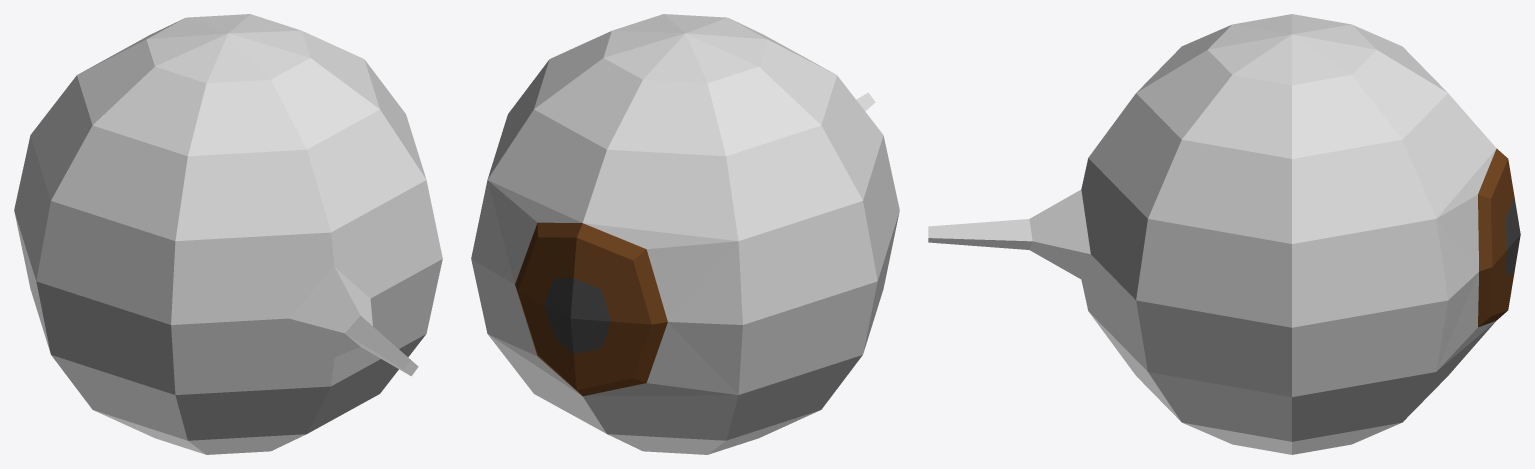
File: Eyeball_01.fbx
3 renders of one model, left to right at view 1: azimuth 30°, elevation 25°; view 2: azimuth 150°, elevation 25°; view 3: azimuth 270°, elevation 25°, orthographic.
Visible parts, largest first — view 1: Eyeball_01; view 2: Eyeball_01; view 3: Eyeball_01.
Boxes of the visible parts, box(x1,y1,x2,y2) form: Eyeball_01: box(14, 14, 442, 454); Eyeball_01: box(471, 14, 899, 454); Eyeball_01: box(928, 14, 1520, 454).
Size of the model in its own units: 6.1 by 6.1 by 8.18.
